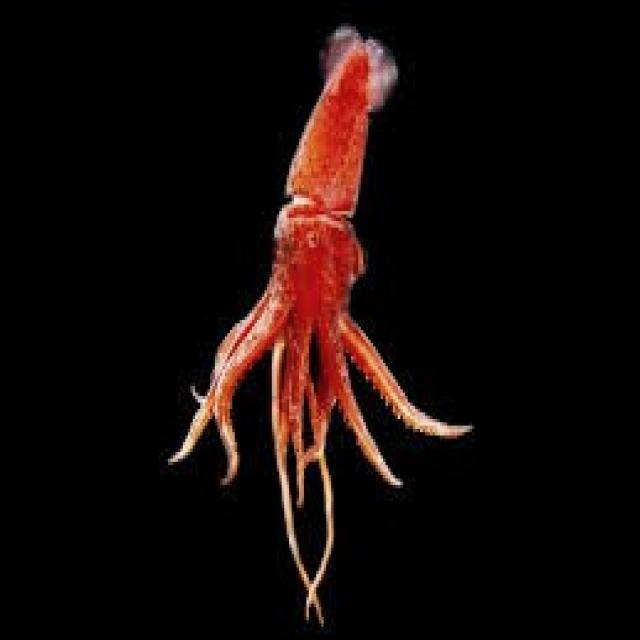squid: (171, 30, 469, 617)
